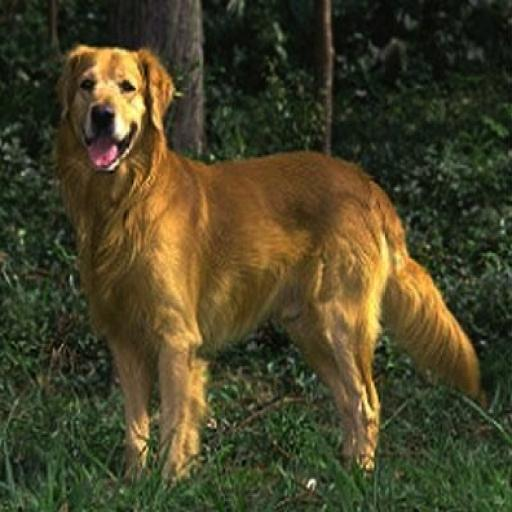dog_face: (60, 44, 166, 173)
